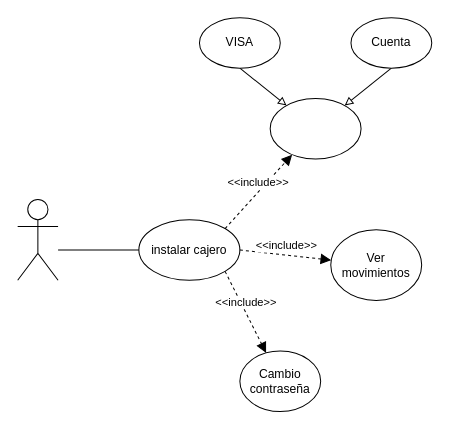
The diagram is 449 pixels wide and 429 high, and some of its shapes have lost their labels. Each missing label, with the centre of its shape:
Actor: point (37, 239)
Realizar reintegro: point (315, 128)
